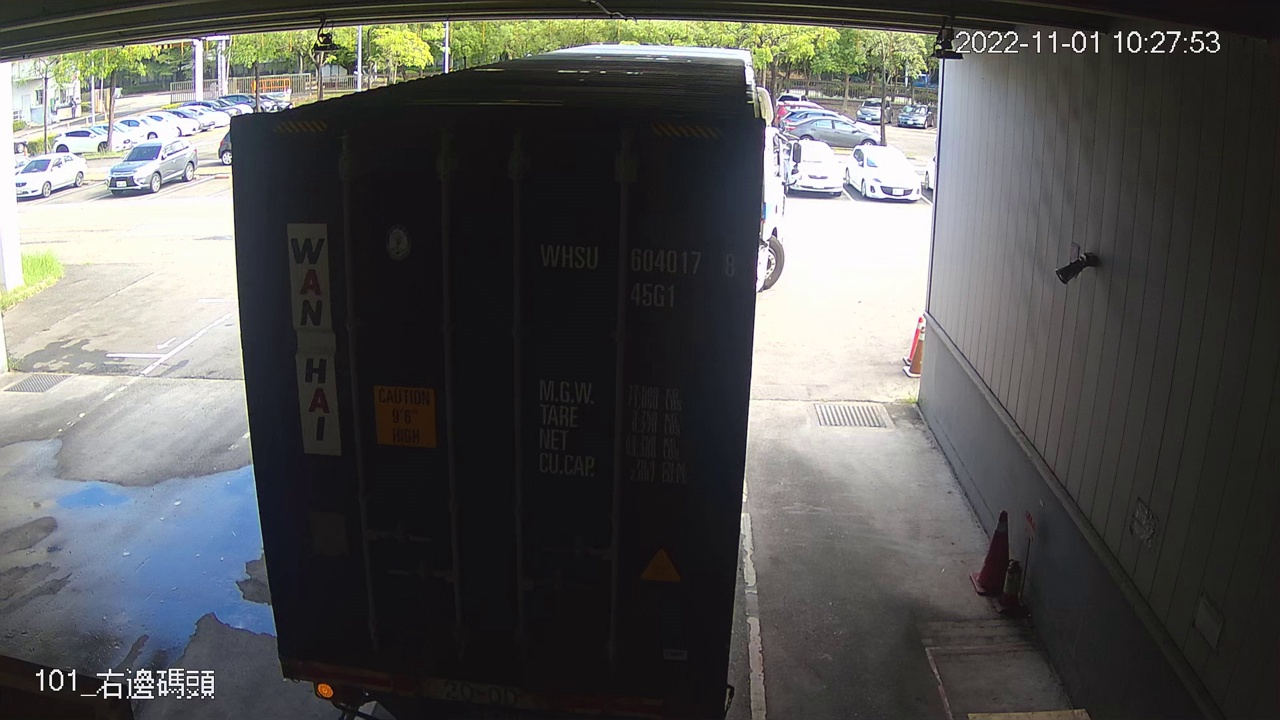container: (526, 229, 745, 315)
